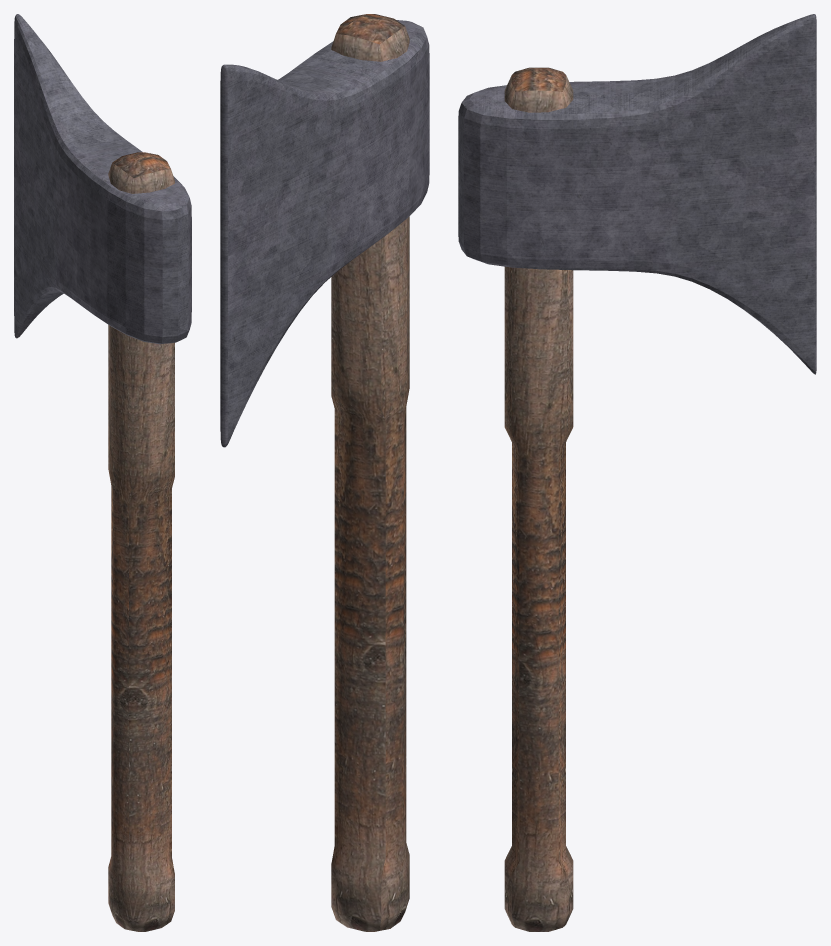
The model's file is axe.fbx.
The picture shows the model from 3 angles, left to right: view 1: azimuth 30°, elevation 25°; view 2: azimuth 150°, elevation 25°; view 3: azimuth 270°, elevation 25°; orthographic projection. The views are drawn at different scales.
Parts seen in each view (by area): view 1: axe, AxeHead; view 2: axe, AxeHead; view 3: AxeHead, axe.
Boxes of the visible parts, x1,y1,x2,y2 form: axe: (108, 152, 174, 931); AxeHead: (14, 14, 191, 344); axe: (331, 14, 409, 931); AxeHead: (220, 20, 429, 447); AxeHead: (458, 14, 816, 374); axe: (504, 67, 573, 931).
Bounding box in the file's own units: 3.37 × 38.3 × 13.64.
Materials: 2 (2 with a texture image).
